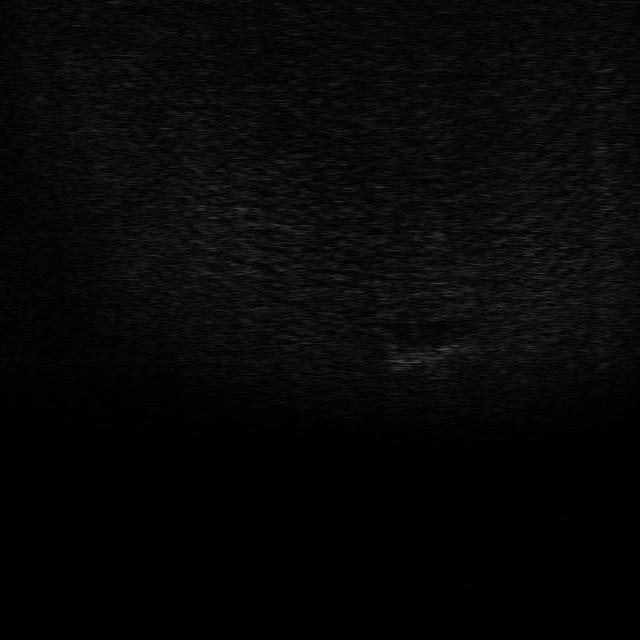plane: (383, 342, 458, 375)
